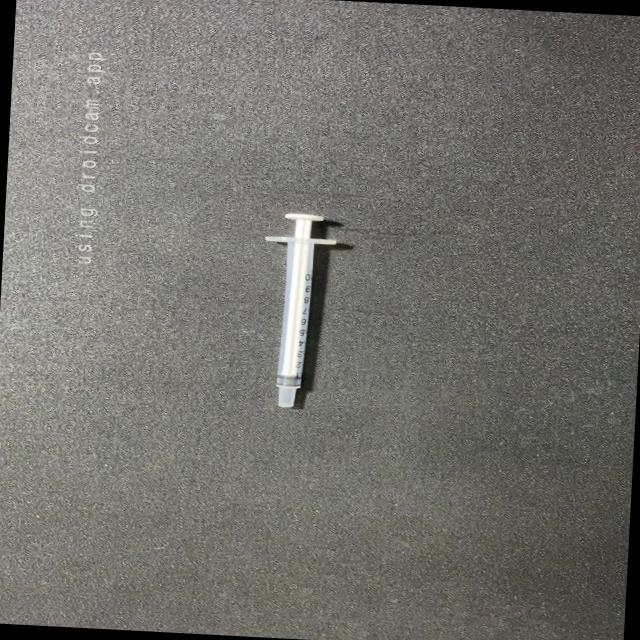syringe: (216, 191, 382, 428)
